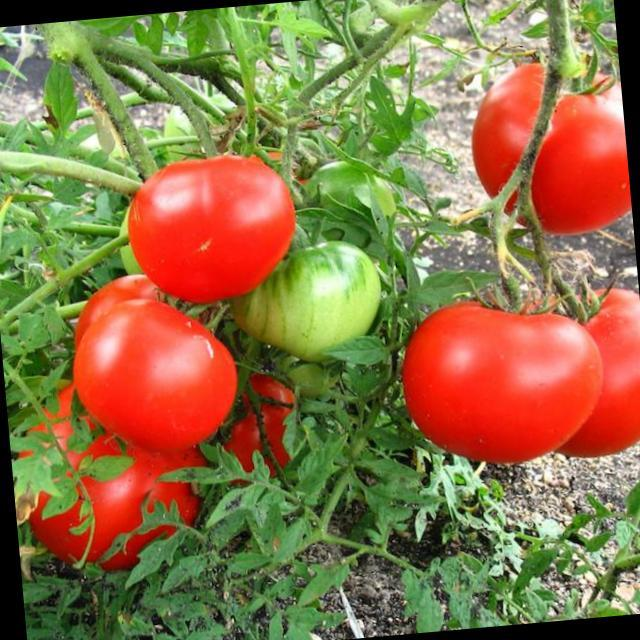TOMATO: (402, 293, 606, 472), (18, 374, 206, 568), (463, 49, 632, 240), (65, 288, 242, 461), (124, 143, 295, 314), (238, 232, 386, 368), (216, 341, 336, 490), (60, 271, 173, 358)
